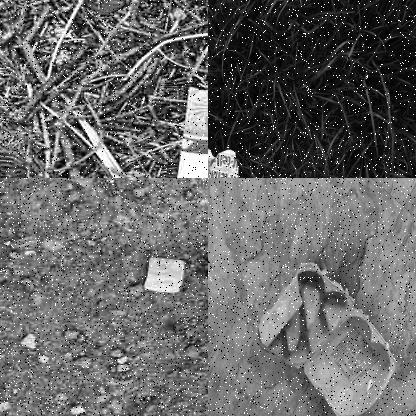cardboard: (250, 260, 399, 415)
plastic: (176, 83, 207, 177), (144, 253, 182, 293), (208, 148, 241, 177)
